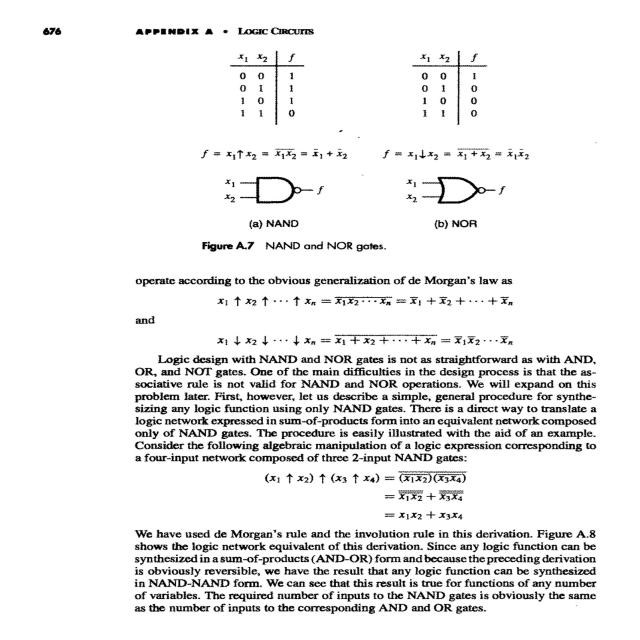diagram: (157, 50, 573, 271)
